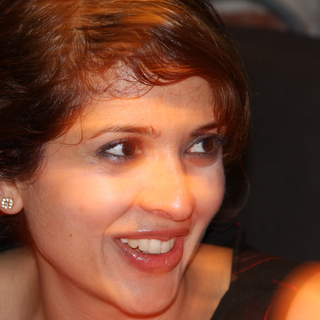eye: (91, 134, 143, 163), (179, 131, 222, 160)
